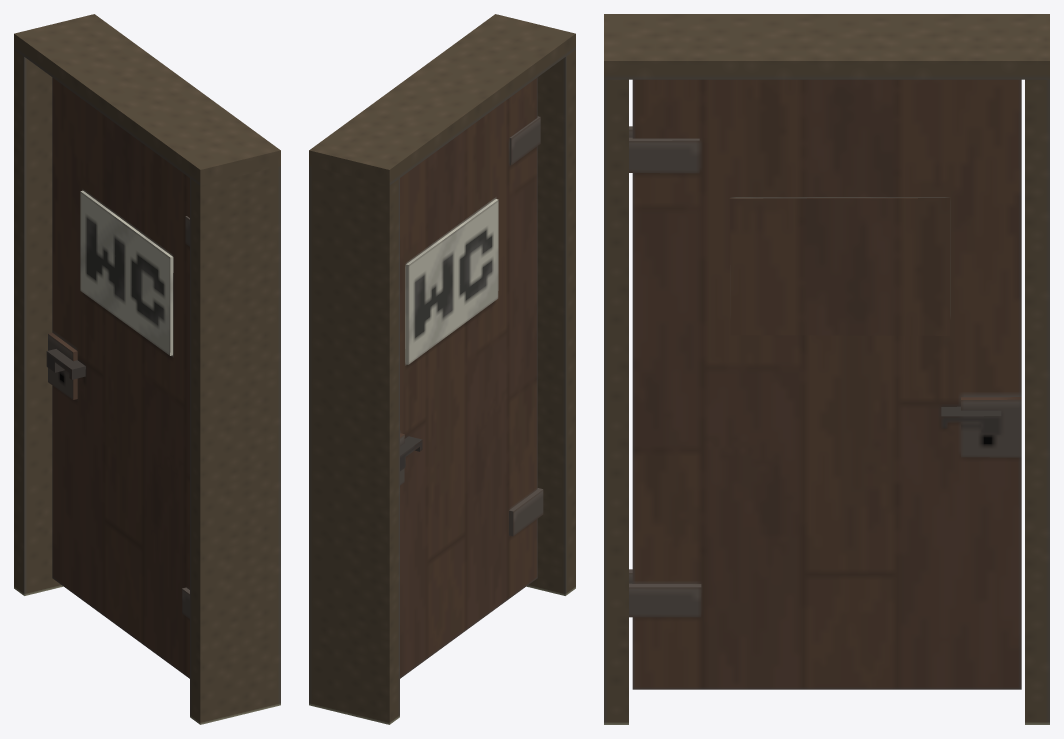
File: obj_doorframeWC.fbx
The picture shows the model from 3 angles, left to right: view 1: azimuth 30°, elevation 25°; view 2: azimuth 150°, elevation 25°; view 3: azimuth 270°, elevation 25°; orthographic projection. The views are drawn at different scales.
Parts seen in each view (by area): view 1: obj_doorframeWC, obj_doorWC; view 2: obj_doorframeWC, obj_doorWC; view 3: obj_doorWC, obj_doorframeWC.
Part boxes in pixels (x1=…): obj_doorframeWC: x1=14, y1=14, x2=280, y2=724; obj_doorWC: x1=46, y1=77, x2=189, y2=678; obj_doorframeWC: x1=309, y1=14, x2=575, y2=724; obj_doorWC: x1=400, y1=77, x2=543, y2=678; obj_doorWC: x1=629, y1=79, x2=1021, y2=689; obj_doorframeWC: x1=604, y1=14, x2=1049, y2=724.
Size of the model in its own units: 26.83 by 177 by 108.
